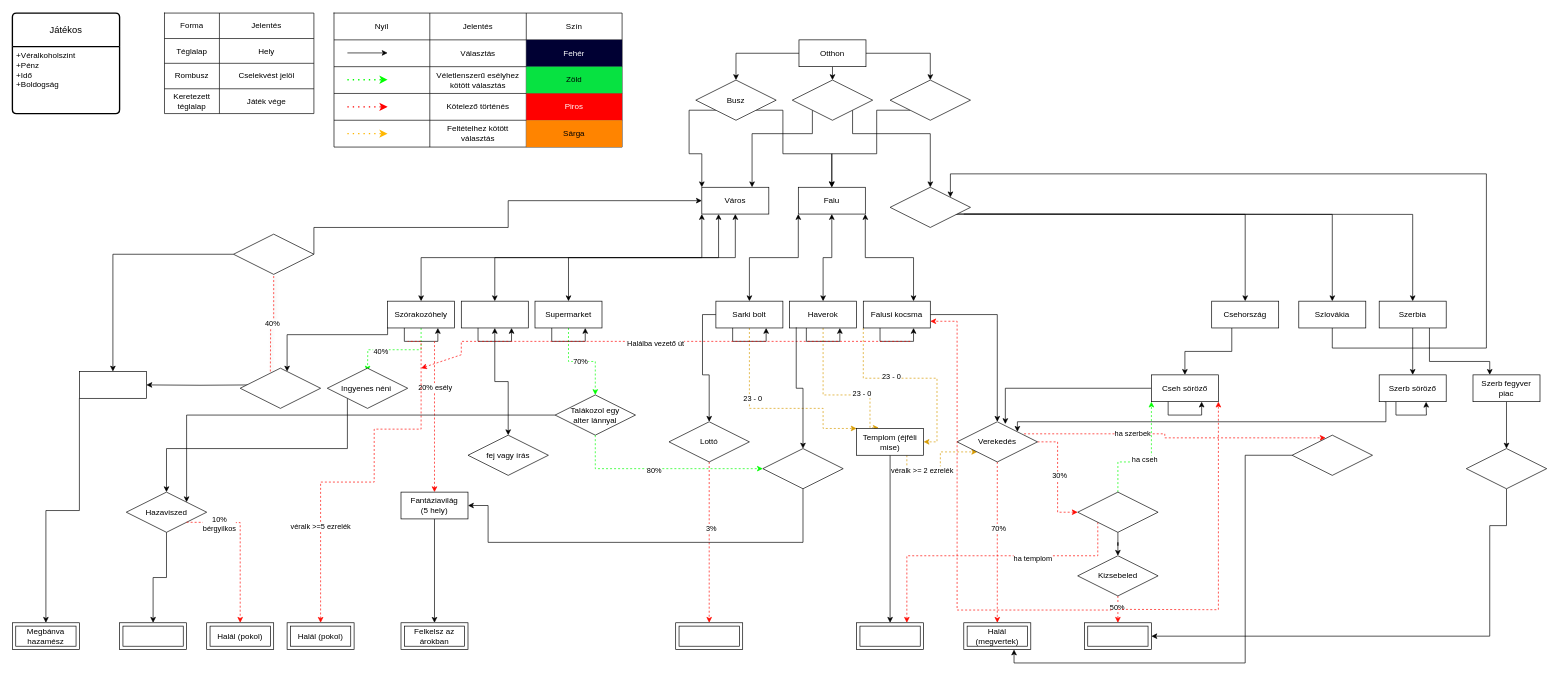
The diagram is 1558 pixels wide and 680 high, and some of its shapes have lost their labels. The centre of each missing label's shape, as x and y in pixels:
Az éj hölgye: pixel 280 387
Bicikli: pixel 929 99
Boldogan felkelsz: pixel 153 636
Bötönbe zárnak: pixel 1117 636
Cigiszagú panel: pixel 112 384
Elhagyom az országot: pixel 929 207
Fegyver választás: pixel 1506 468
Hazamész (megtértél): pixel 890 636
Kocsi: pixel 832 99
Kocsma: pixel 494 314
Milliárdos leszel: pixel 709 636
Nyersz: pixel 1117 511
Szerb maffia: pixel 1331 454
Thai férfi: pixel 273 253
Vicces gomba: pixel 802 468
